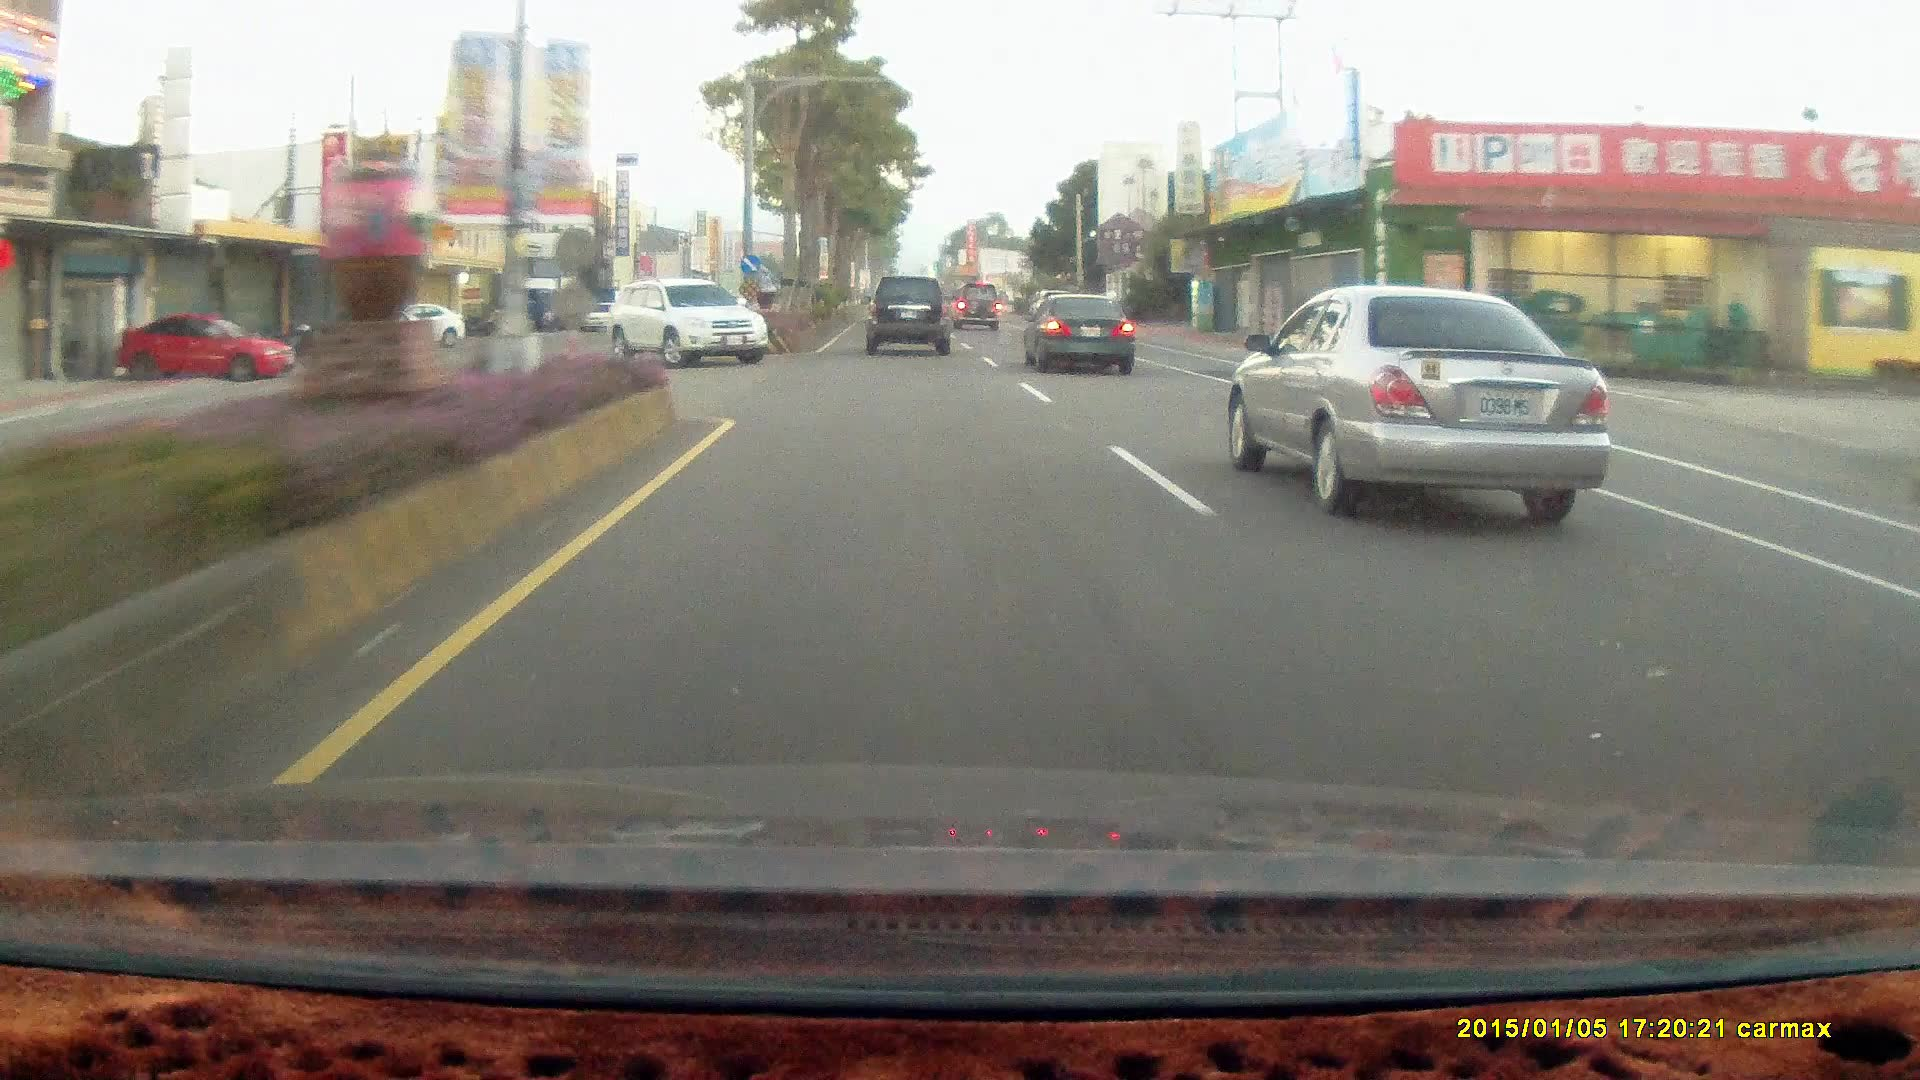vehicle: (1237, 280, 1619, 518), (603, 273, 770, 367), (612, 276, 773, 365), (111, 313, 298, 385), (117, 313, 298, 382), (1021, 287, 1135, 373), (1027, 293, 1138, 376), (868, 276, 957, 357), (865, 276, 949, 353), (369, 301, 465, 348), (951, 282, 1004, 334), (951, 281, 1001, 330)
